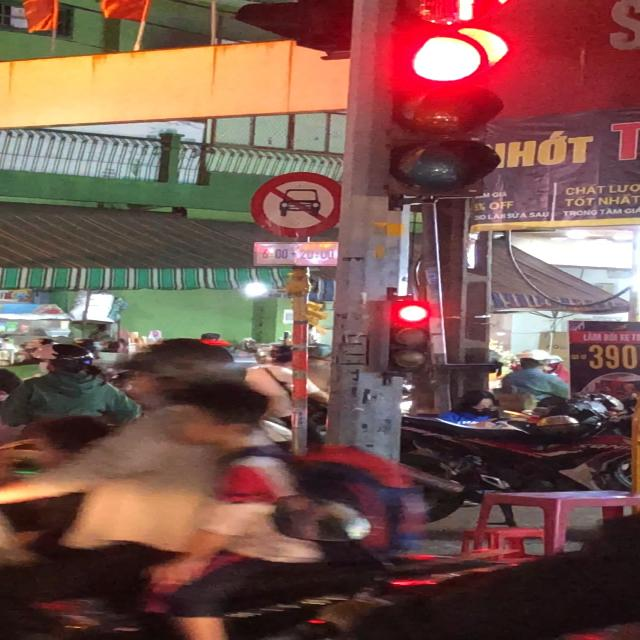Bien bao cam xe oto: (249, 170, 349, 242)
